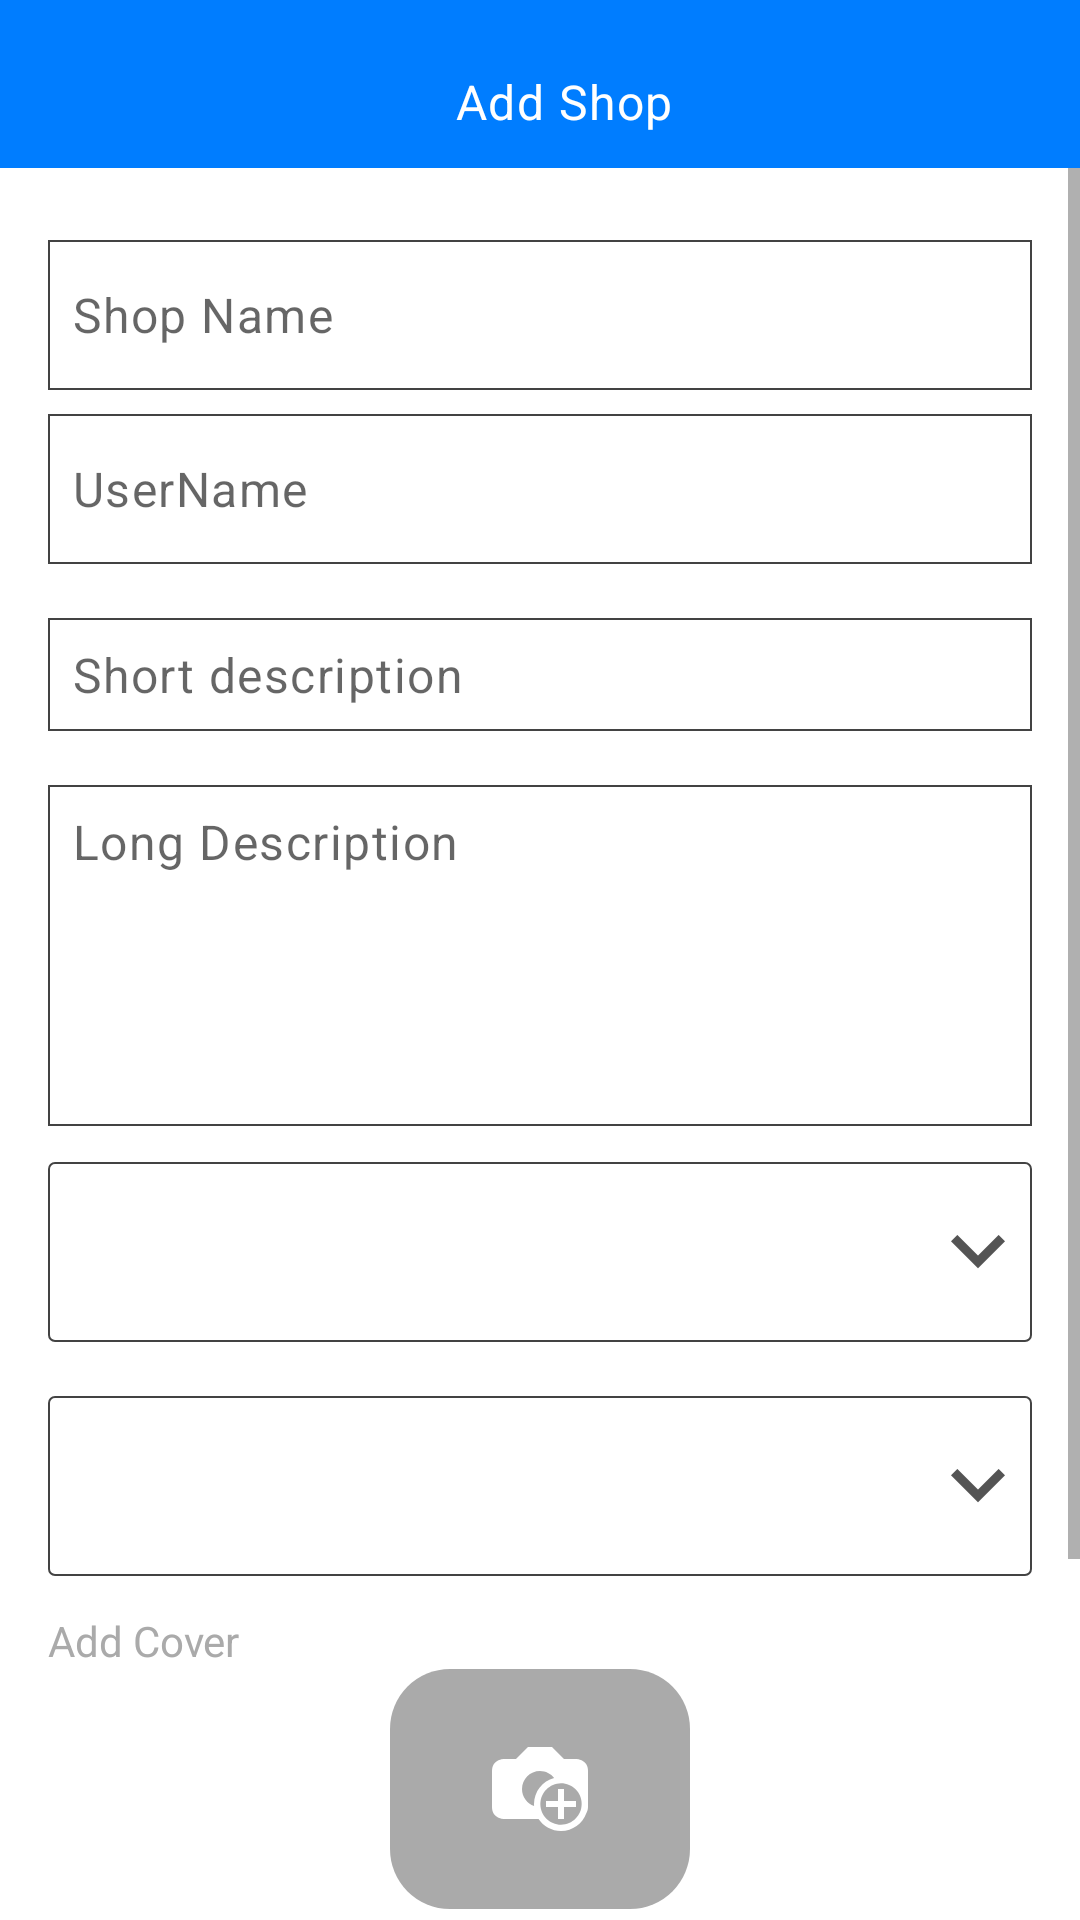

Screen size 1080×1920. Icon name, then its center in pixels as point (x, y):
add: point (540, 1789)
